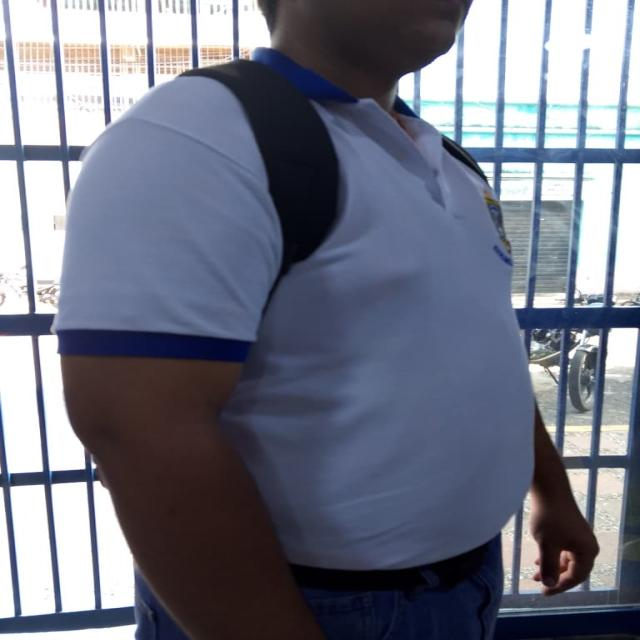uniforme_superior: (54, 46, 535, 570)
